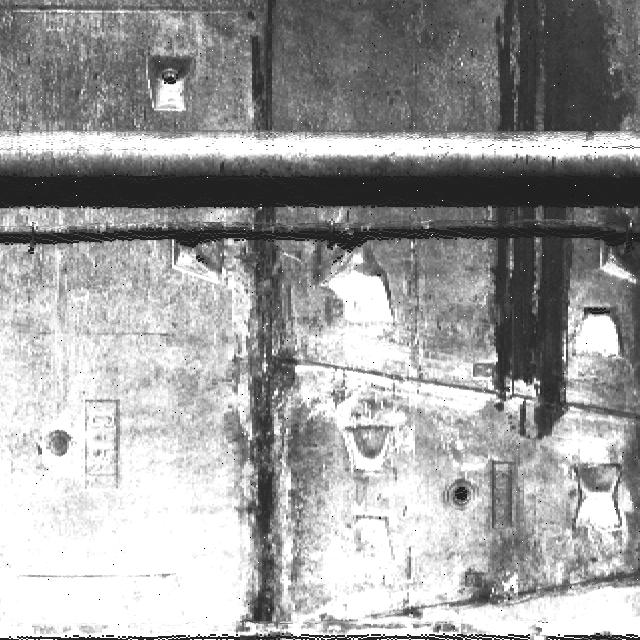leakage: (218, 209, 317, 640), (477, 199, 597, 450), (489, 1, 639, 142), (237, 1, 294, 149)
